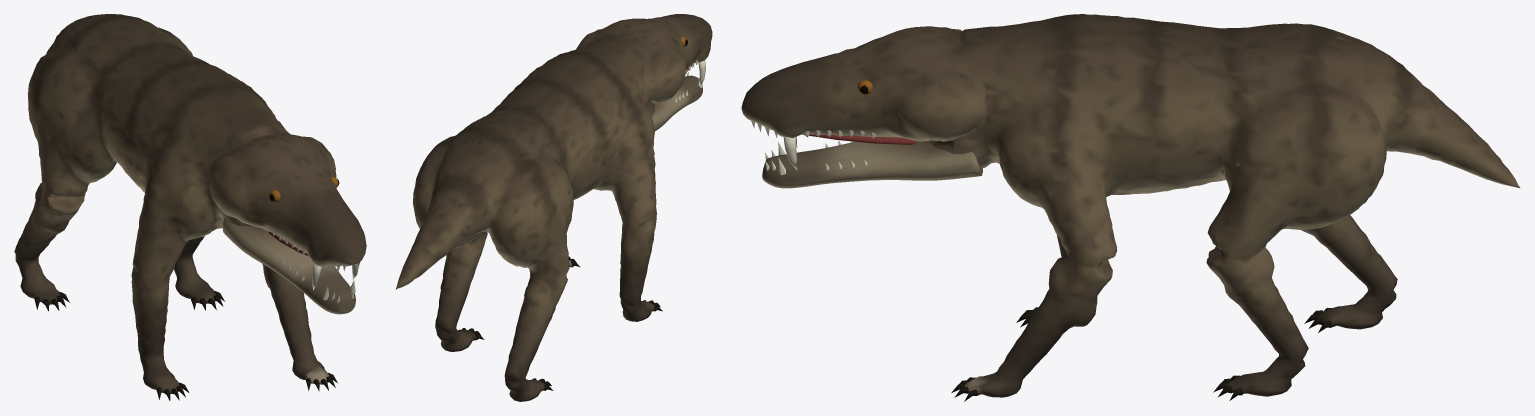
Rendered from Cynognathus.fbx.
3 views of the same model, side by side, from view 1: azimuth 30°, elevation 25°; view 2: azimuth 150°, elevation 25°; view 3: azimuth 270°, elevation 25° (orthographic). The views are drawn at different scales.
Parts seen in each view (by area): view 1: Cynognathus; view 2: Cynognathus; view 3: Cynognathus.
Part boxes in pixels (box(x1,y1,x2,y2)): Cynognathus: box(14, 14, 366, 400); Cynognathus: box(395, 14, 712, 401); Cynognathus: box(741, 14, 1519, 401).
Bounding box in the file's own units: 0.3497 × 0.5746 × 1.2.
